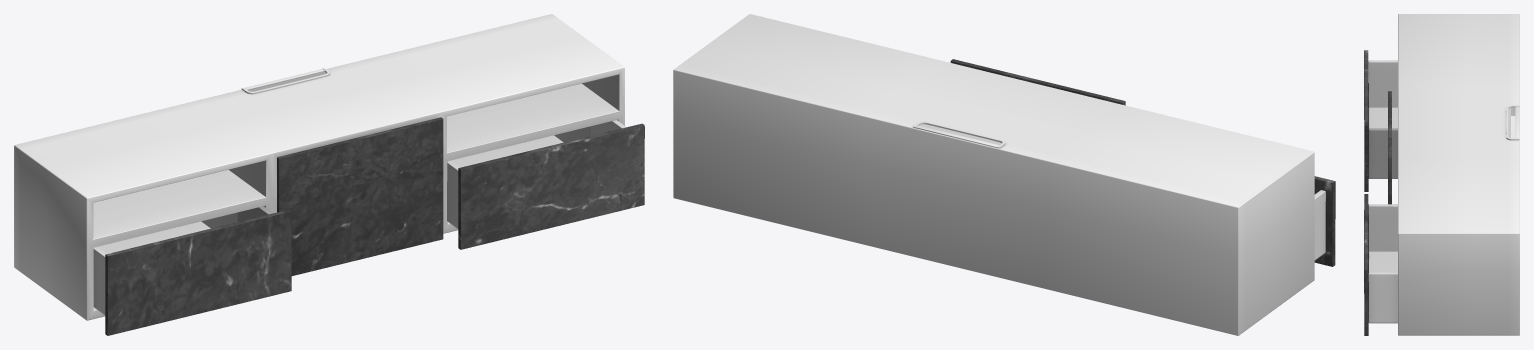
The model's file is white Bergsviken black.gltf.
3 renders of one model, left to right at view 1: azimuth 30°, elevation 25°; view 2: azimuth 150°, elevation 25°; view 3: azimuth 270°, elevation 25°, orthographic. The views are drawn at different scales.
Parts seen in each view (by area): view 1: Tv shelf_001; view 2: Tv shelf_001; view 3: Tv shelf_001.
Part boxes in pixels (bbox=[...]): Tv shelf_001: bbox=[14, 14, 644, 335]; Tv shelf_001: bbox=[673, 14, 1335, 335]; Tv shelf_001: bbox=[1364, 14, 1519, 335].
Size of the model in its own units: 1.81 by 0.4 by 0.542.
1 material, 1 textured.
